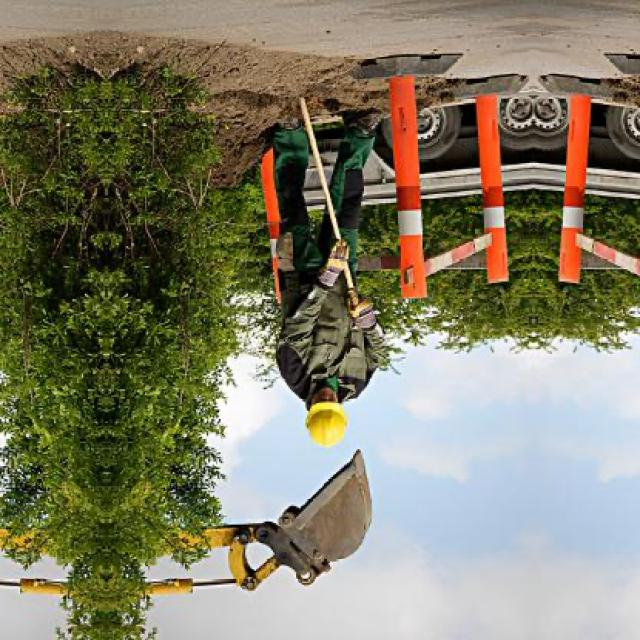con casco: (283, 383, 344, 466)
